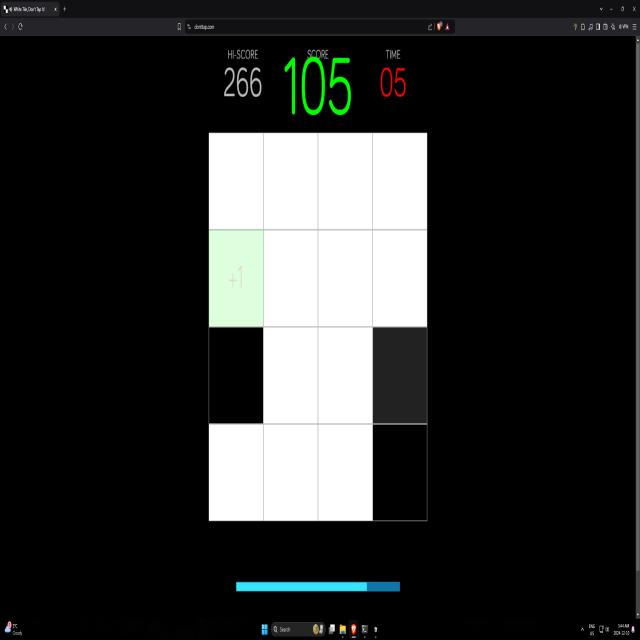black-tile: (207, 325, 264, 427), (372, 421, 428, 524), (372, 326, 428, 428)
